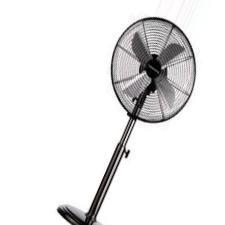fan: (64, 9, 198, 225)
